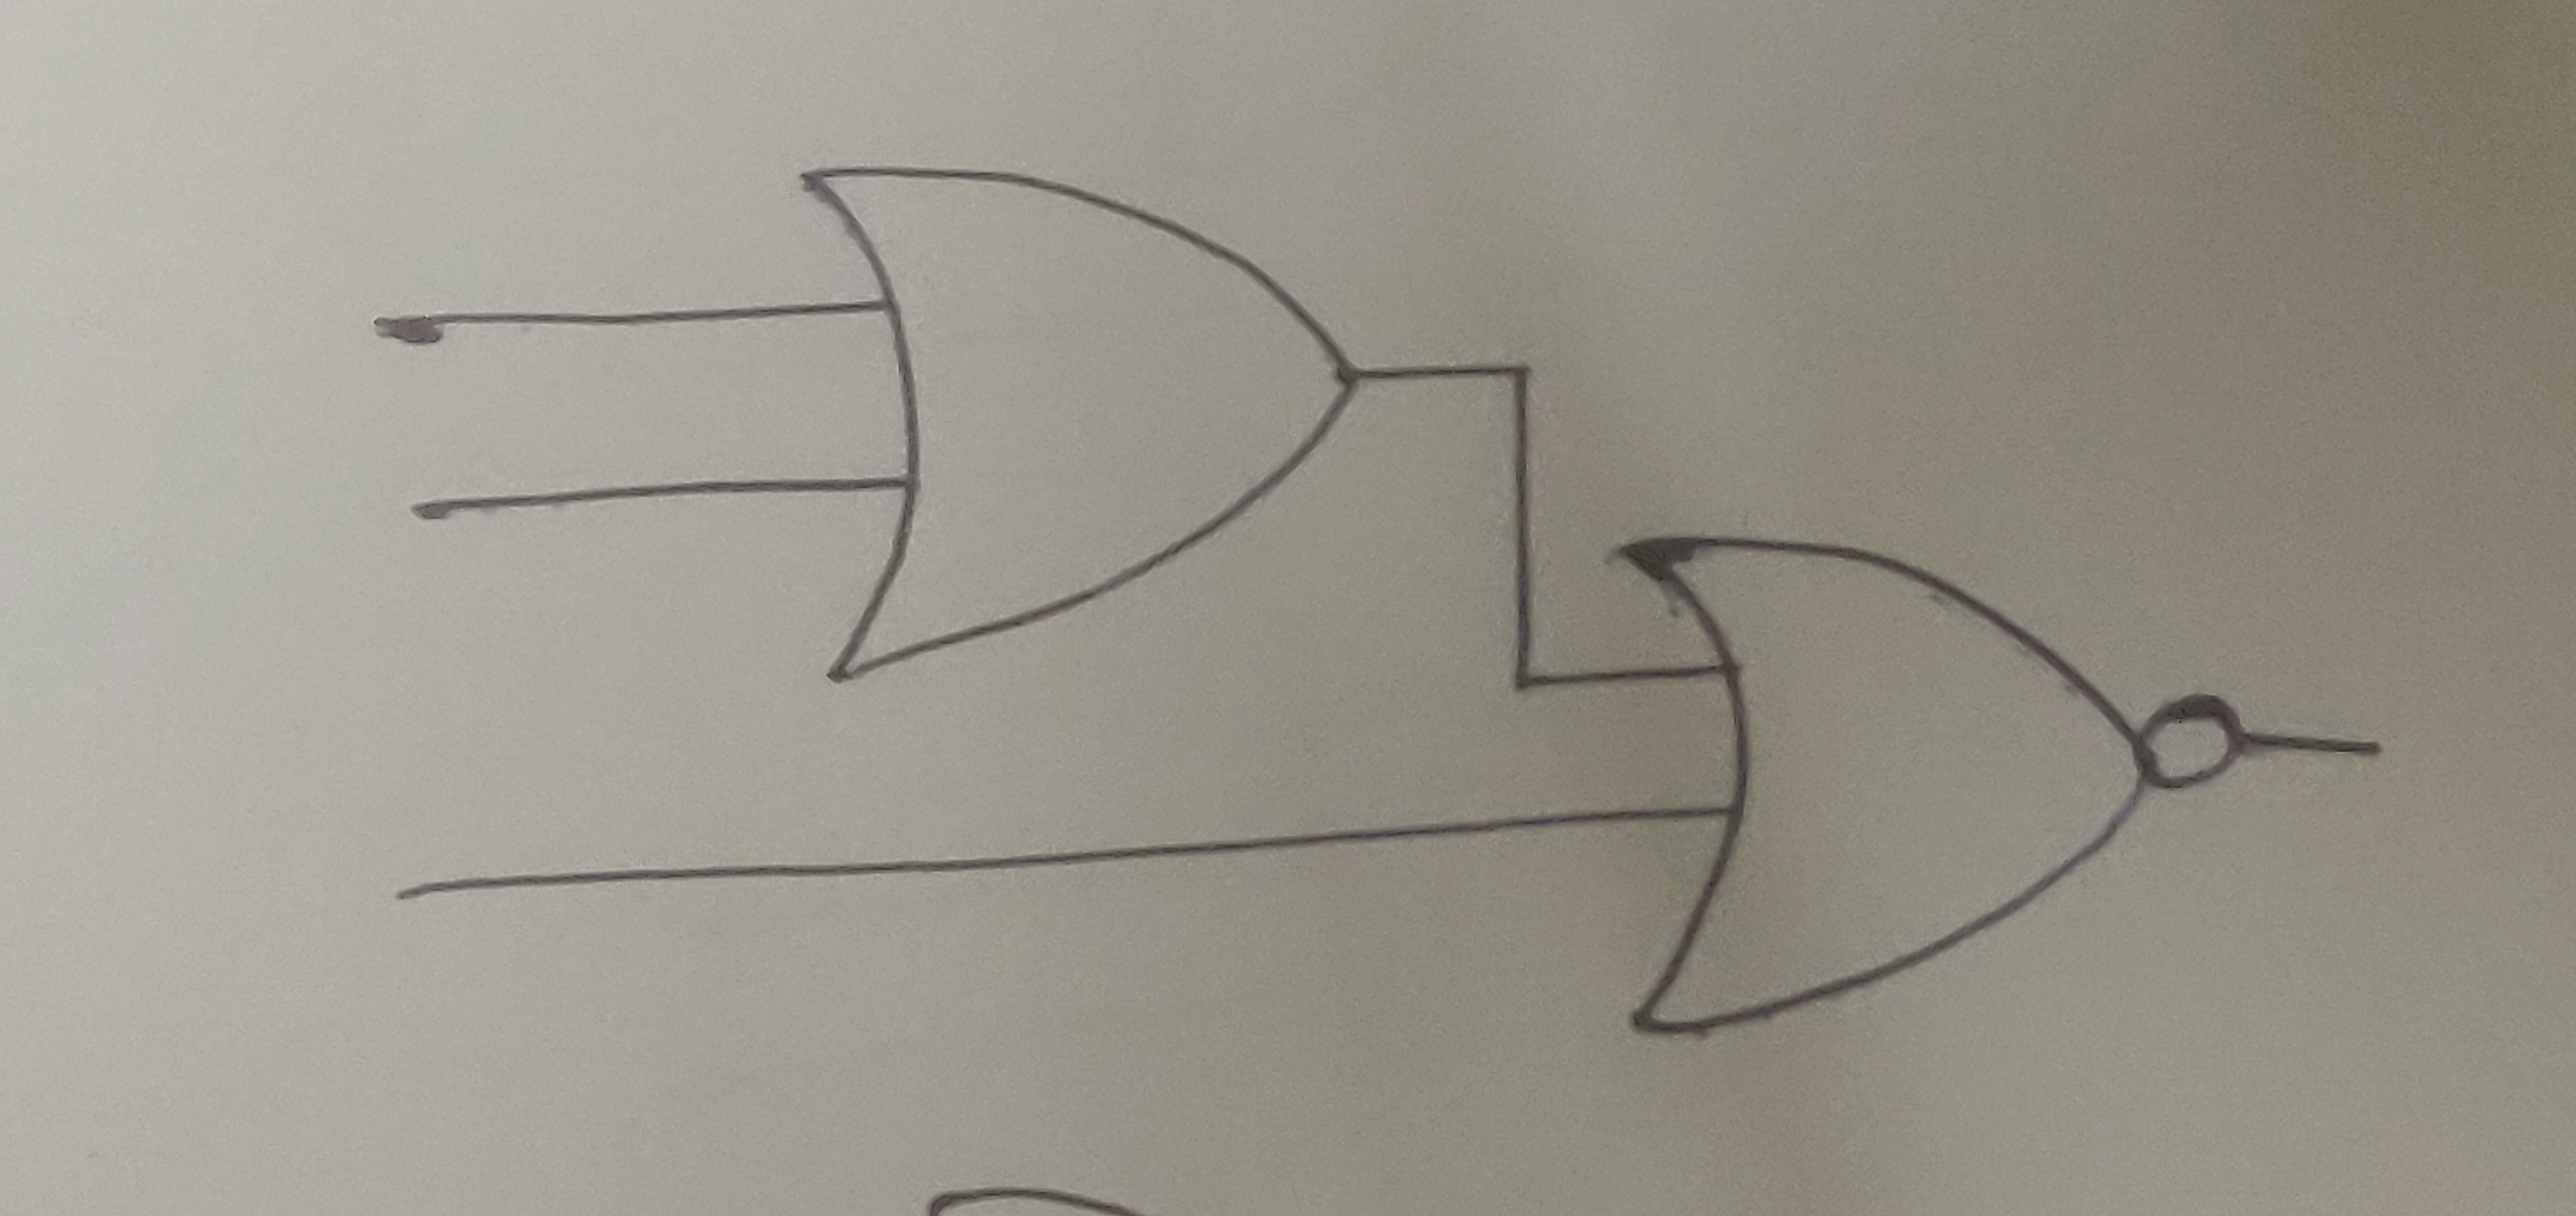not: (2136, 697, 2247, 799)
or: (790, 161, 1364, 684), (1603, 526, 2152, 1039)
